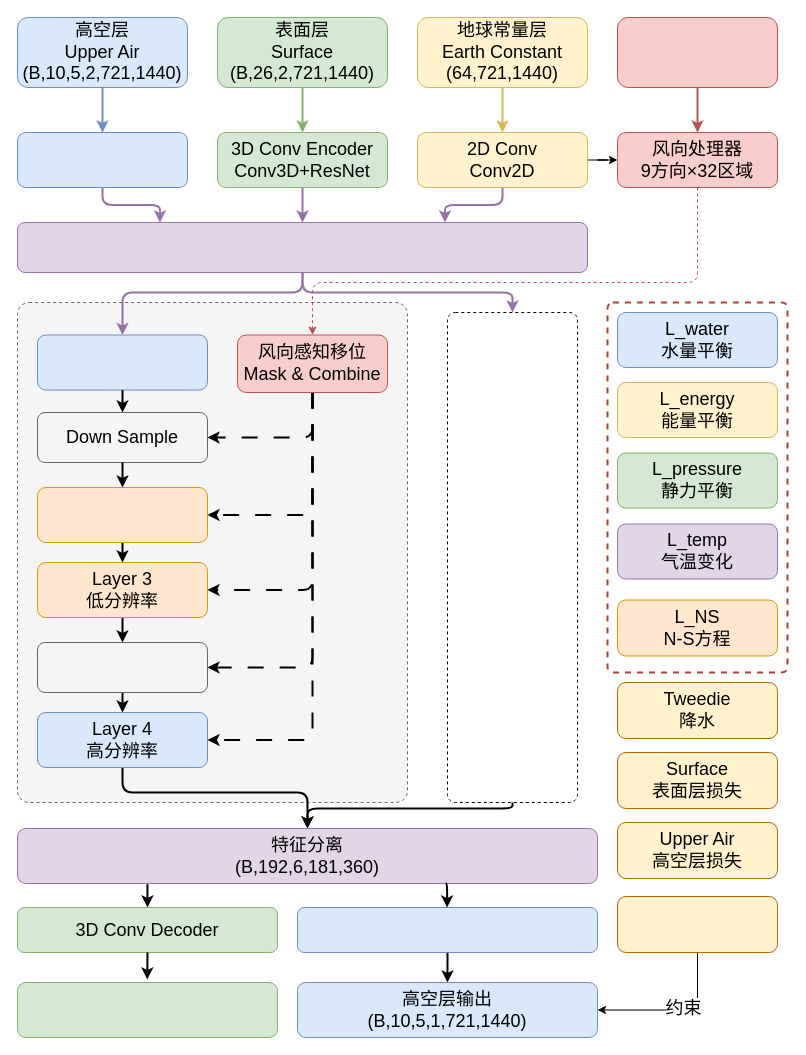
This 806x1055 diagram has some shape labels left out. The shapes that lost their labels are listed below. From the top down, each one's box as (x1, y1, x2, y2) in pixels, then its label:
(616, 16, 778, 88): 风场提取 u/v风分量
(16, 132, 188, 188): 4D Patch Embedding Conv4D
(16, 222, 588, 272): 特征拼接(Concat) (B,96,6,181,360)
(36, 334, 208, 390): Layer 1 高分辨率
(36, 486, 208, 542): Layer 2 低分辨率
(446, 312, 578, 802): Skip Connection 跳跃链接
(36, 642, 208, 692): Up Sample
(296, 906, 598, 952): 4D Patch Recovery
(616, 896, 778, 952): Foucus 重要变量损失
(16, 982, 278, 1038): 表面层输出 (B,26,1,721,1440)
